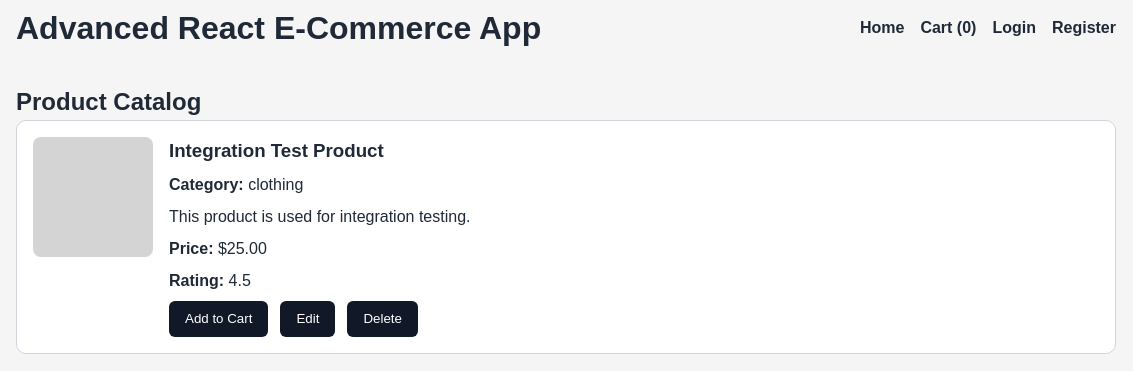
Test: App integration › updates cart count when a product is added
Check: the heading "Integration Test Product" is shown, box [169,140,384,161]
Click the button "Add to Cart".
click(219, 319)  # box [169,301,268,337]
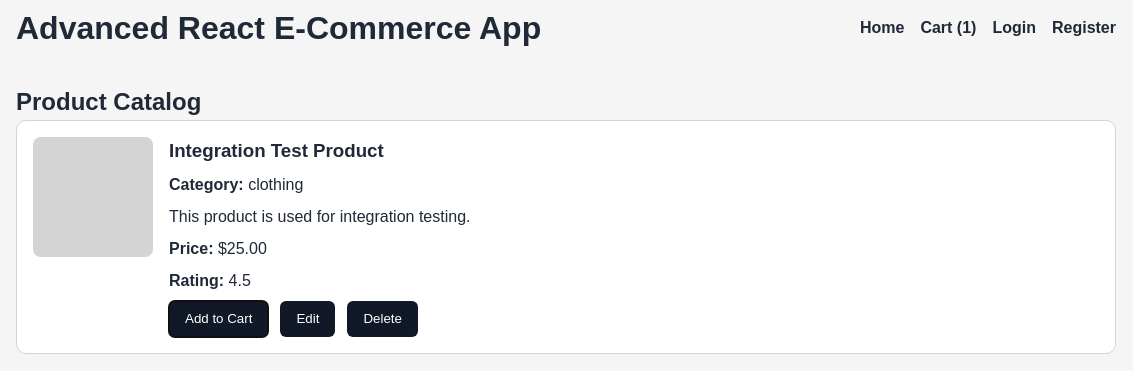
Check: the link "Cart (1)" is shown, box [920,16,976,40]
